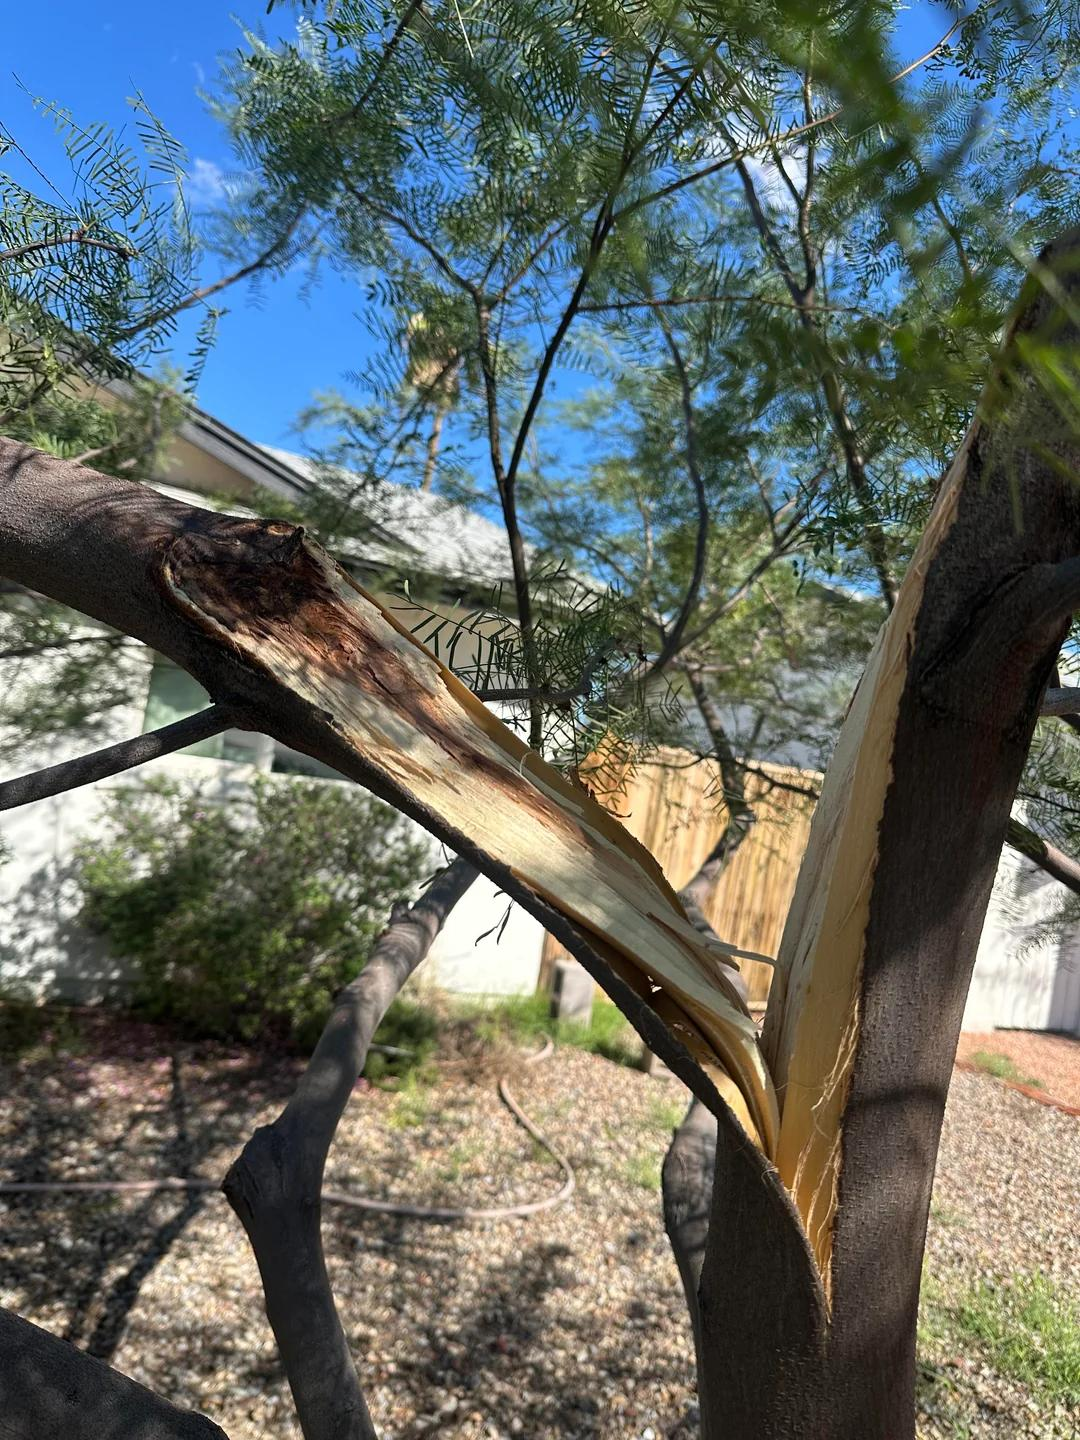mechanical damage: (163, 525, 778, 1157), (766, 447, 967, 1302)
